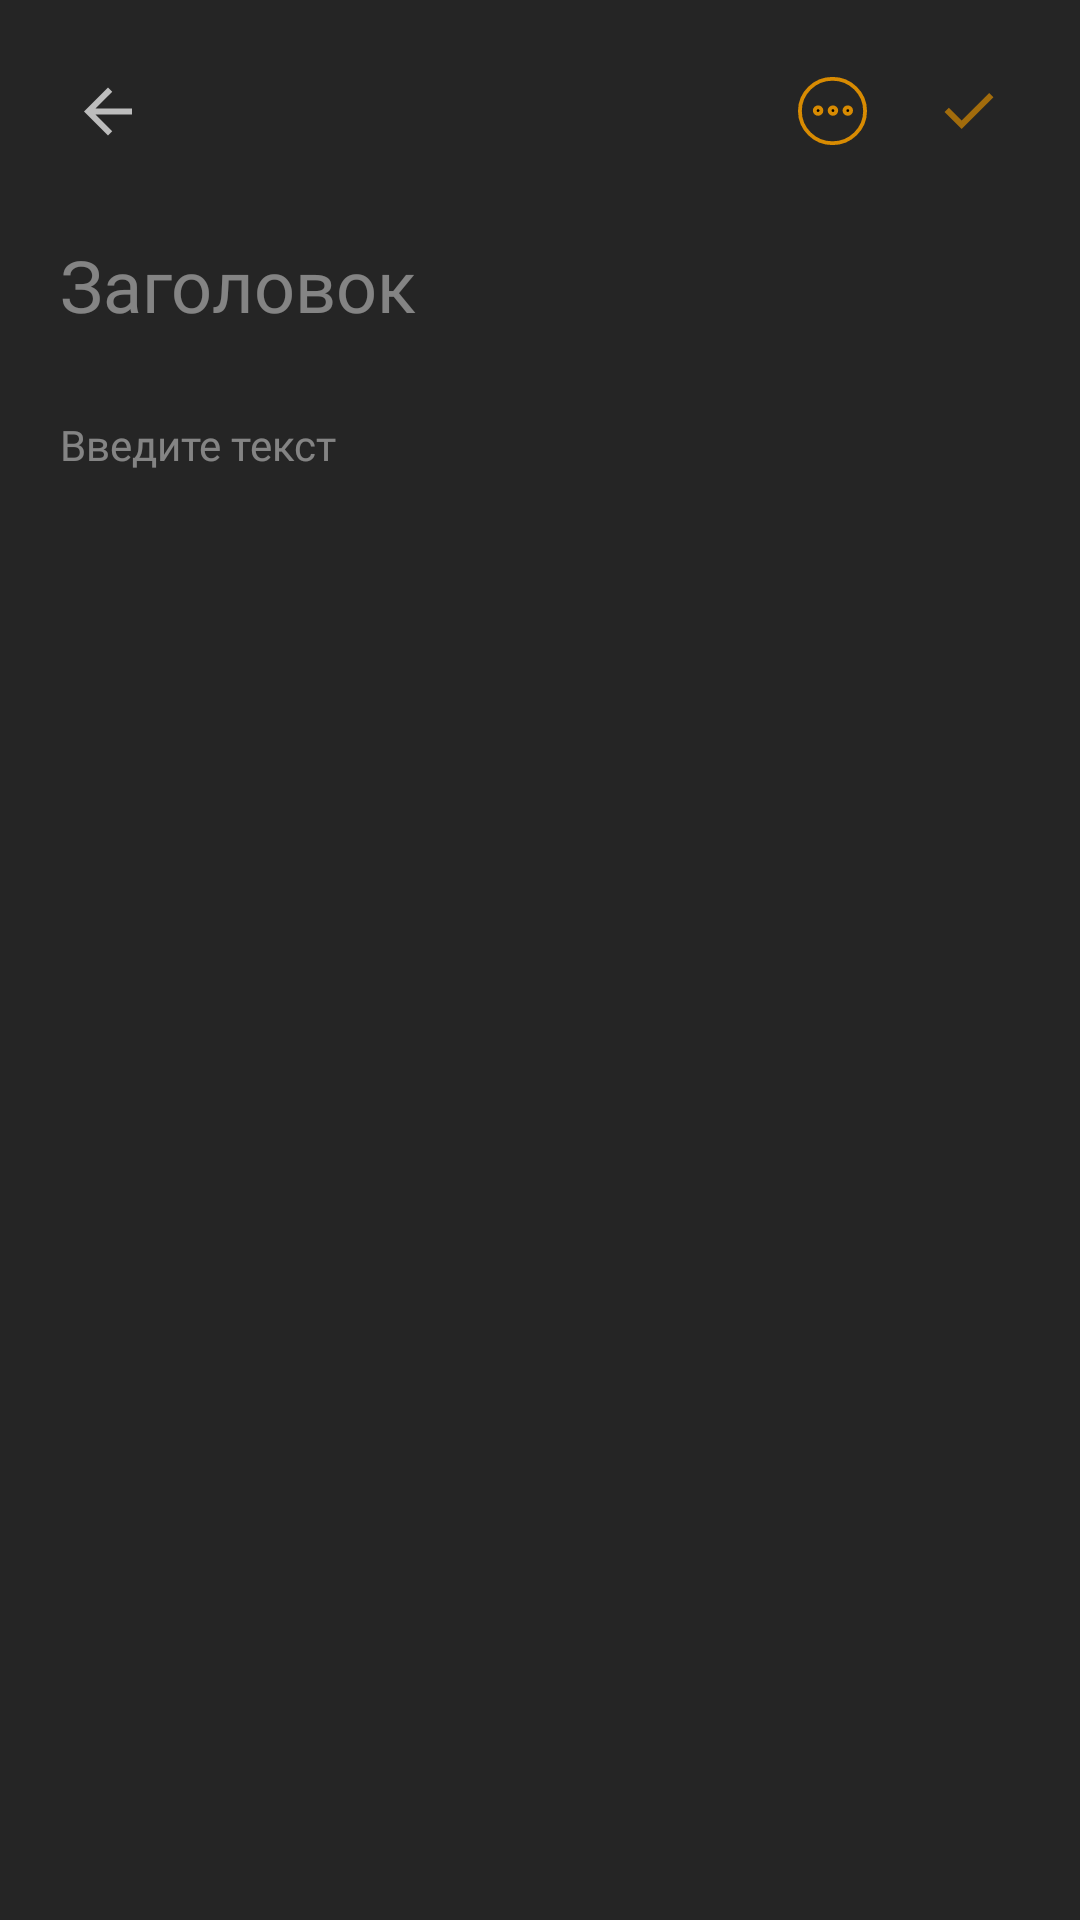

Screen size 1080px x 1920px. Icon name, then its center in pixels as (x,y):
Button to cancel new note: (108,111)
check: (969,111)
